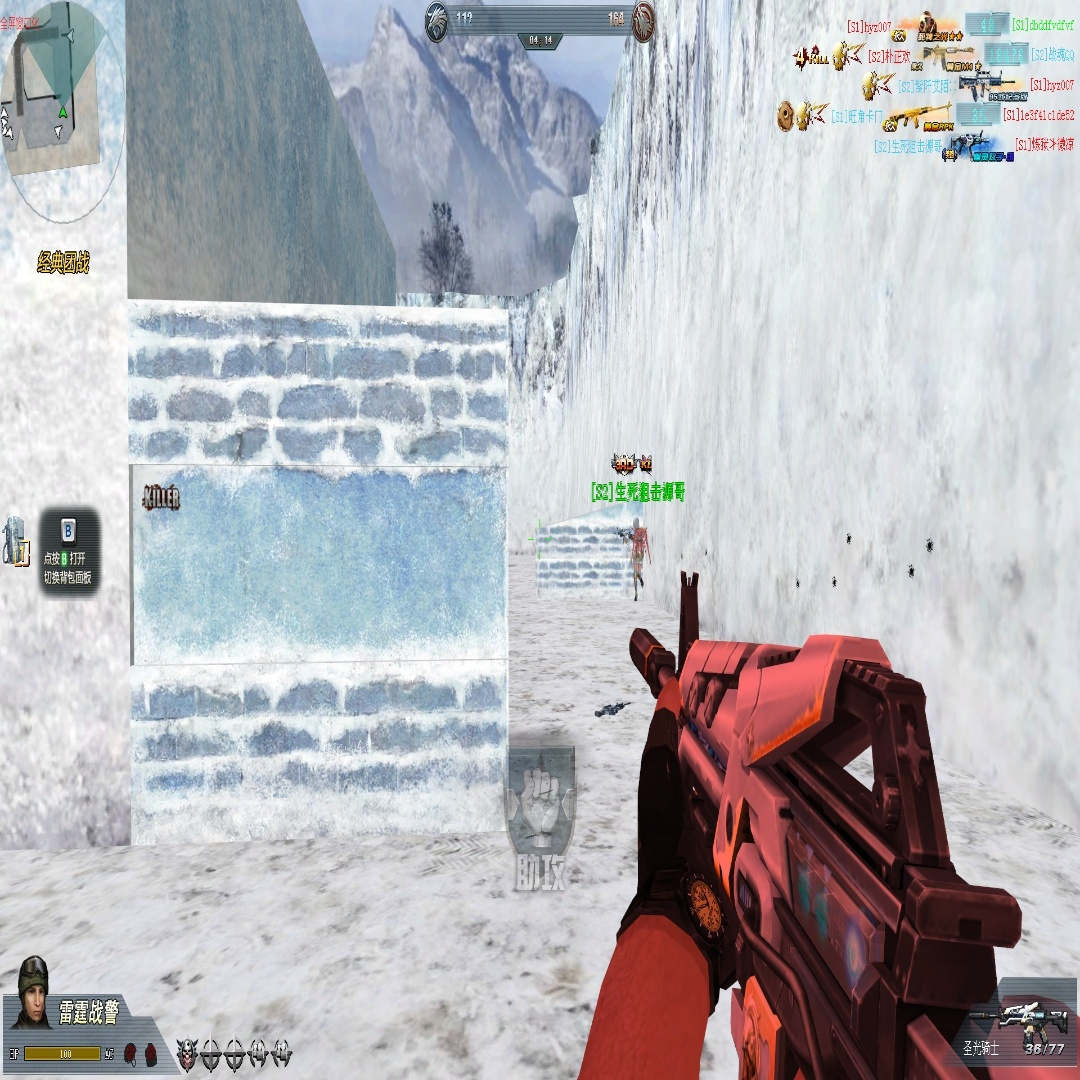ct: (628, 517, 651, 600)
